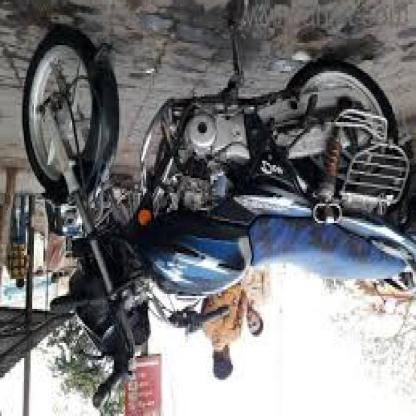bike: (21, 0, 416, 405)
